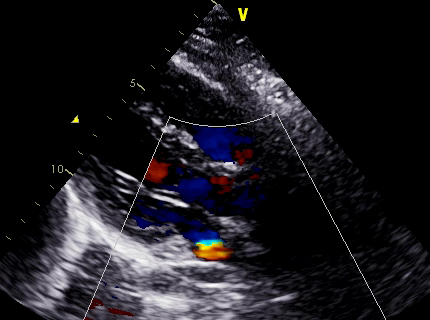AR: (156, 161, 241, 215)
